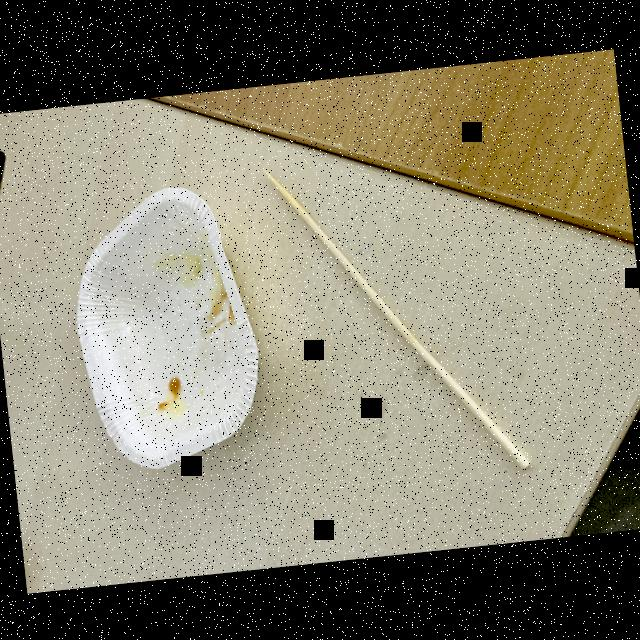cardboard_bowl: (59, 170, 272, 478)
stick: (252, 135, 538, 498)
